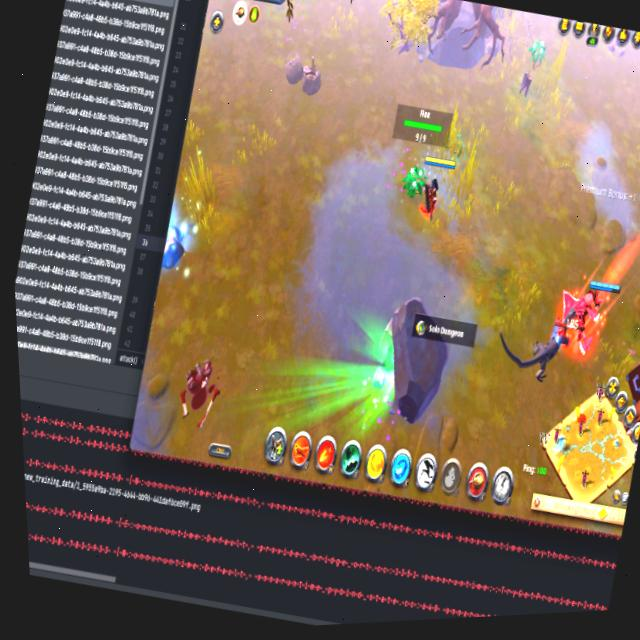hide: (396, 153, 434, 211), (520, 27, 553, 75)
ore: (484, 295, 591, 395)
red: (549, 263, 629, 352), (401, 145, 463, 233)
